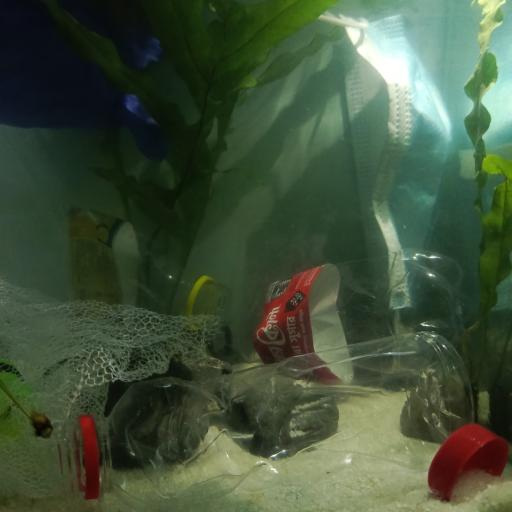bottle_cap: (429, 422, 509, 502)
glove: (1, 0, 178, 164)
mask: (328, 12, 454, 316)
net: (0, 279, 221, 502)
plastic_bottle: (52, 328, 478, 508), (241, 252, 472, 381), (2, 202, 229, 330), (0, 358, 27, 444)
